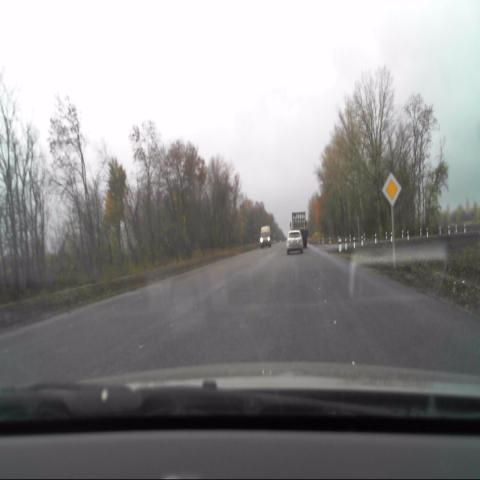2_1: (381, 172, 402, 205)
